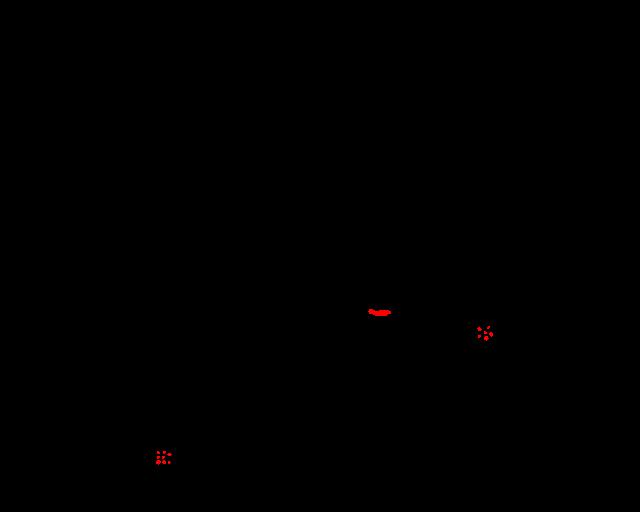Target: (368, 309, 391, 316), (484, 336, 489, 341), (156, 460, 161, 465), (477, 327, 482, 331), (489, 332, 493, 337), (162, 460, 166, 464), (167, 453, 172, 456), (487, 326, 490, 329), (484, 331, 487, 334), (478, 335, 481, 338), (157, 451, 160, 454), (163, 451, 166, 454), (157, 456, 160, 459), (162, 456, 165, 459), (168, 461, 171, 464)
